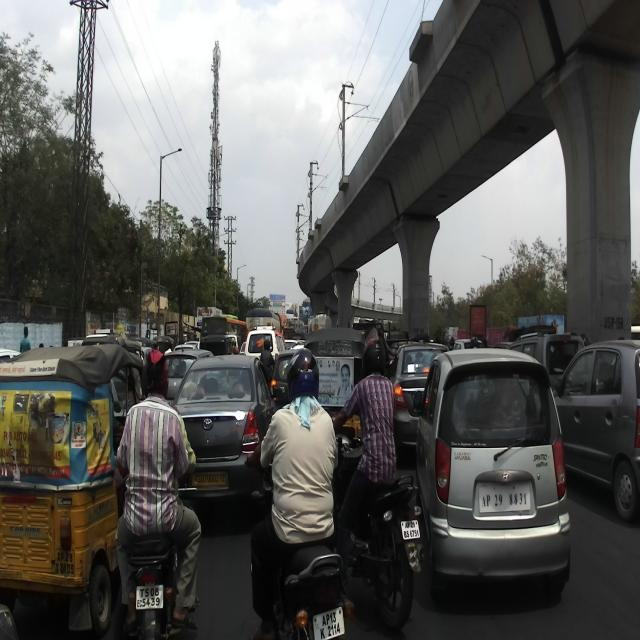autorickshaw: (0, 344, 140, 637), (304, 326, 369, 450)
car: (411, 346, 572, 599), (168, 353, 276, 521), (553, 339, 640, 525), (391, 344, 452, 462)
motorcycle: (322, 406, 430, 624), (116, 440, 196, 636)
